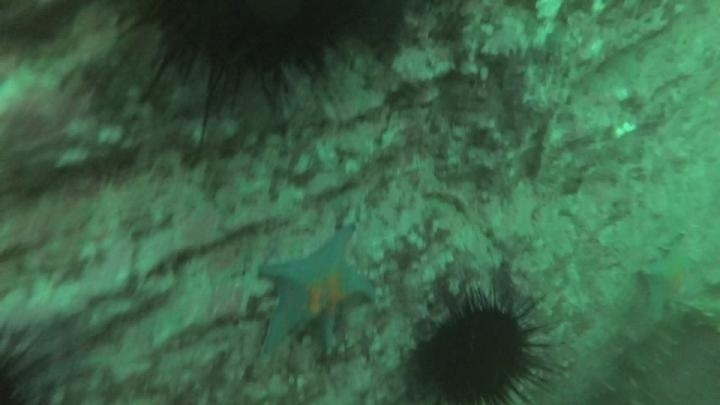echinus: (104, 0, 411, 128), (403, 283, 558, 405)
holothurian: (532, 327, 633, 404), (615, 305, 694, 380)
starfish: (254, 221, 379, 363), (637, 237, 712, 323)
